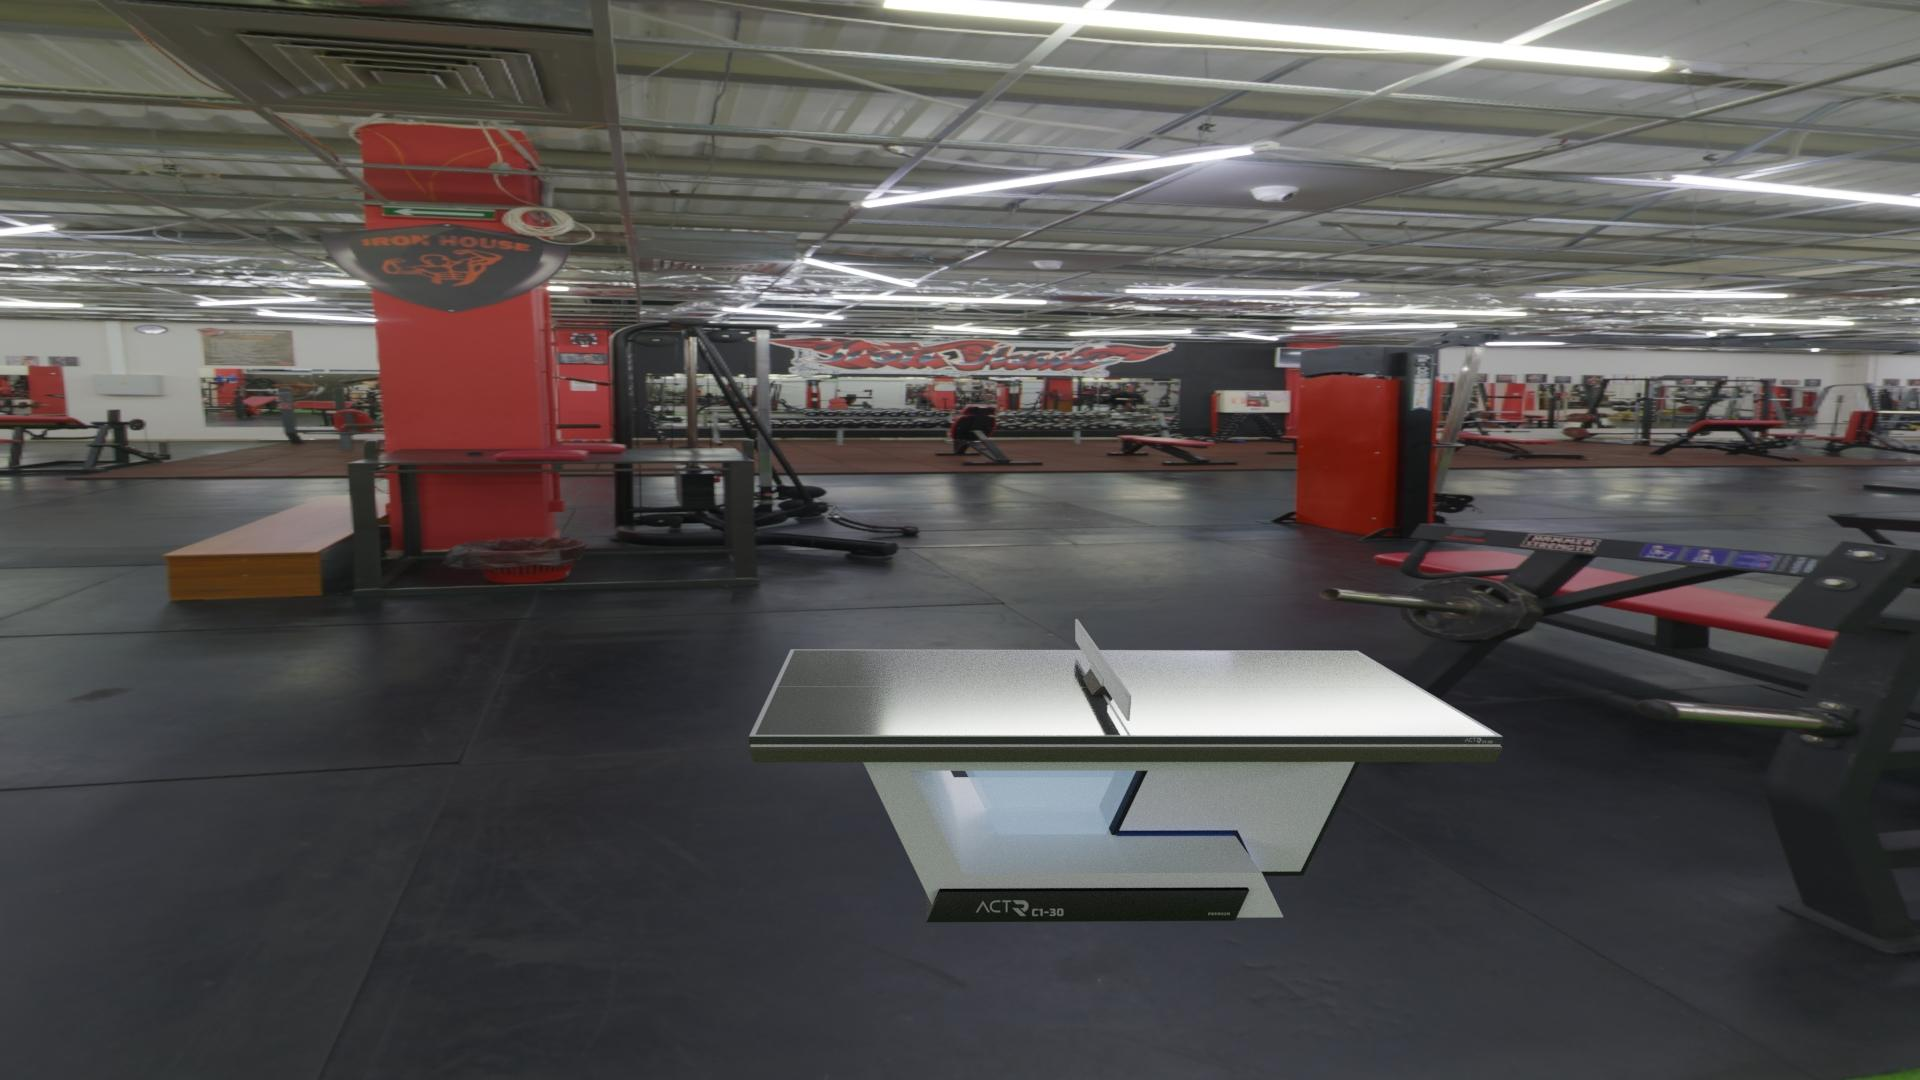table: (755, 650, 1495, 735)
